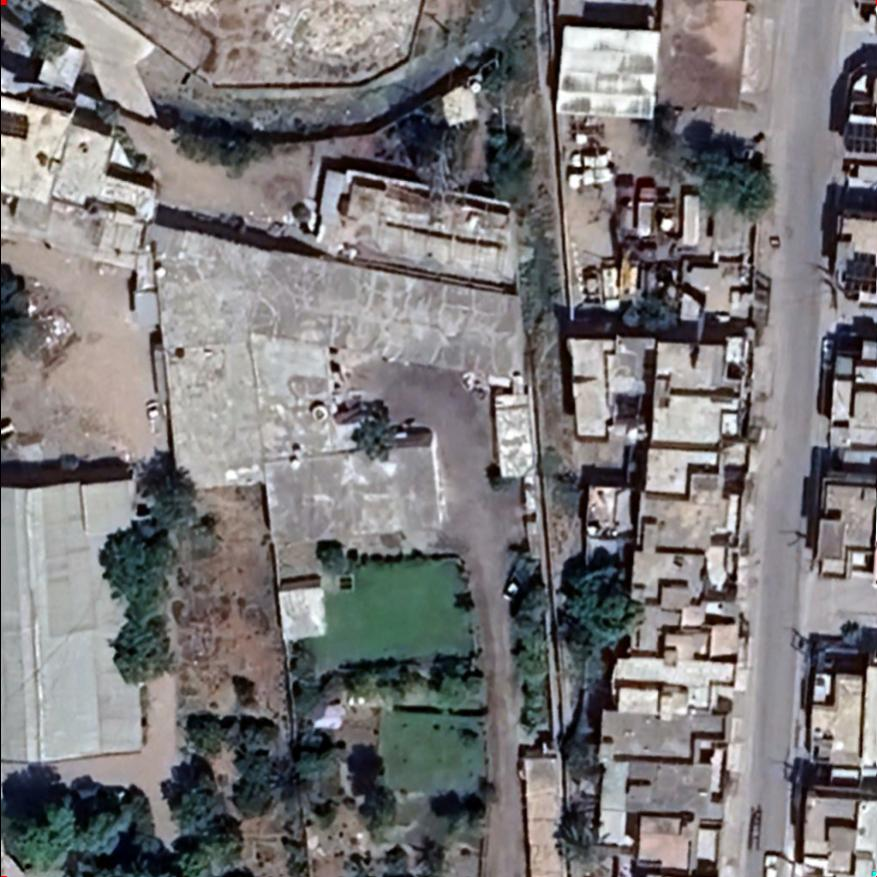Solarpanel: (841, 258, 875, 295), (842, 120, 875, 155)
